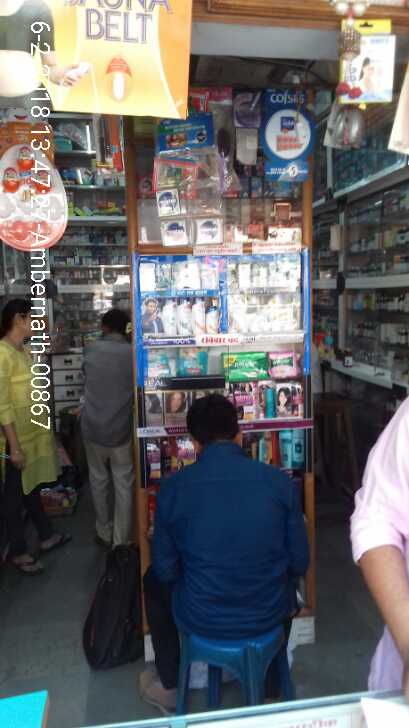beauty: (160, 293, 178, 337), (177, 297, 193, 339), (206, 307, 225, 338), (194, 295, 205, 335)
pharmacy: (223, 354, 270, 383), (173, 347, 212, 376), (268, 356, 301, 381)
